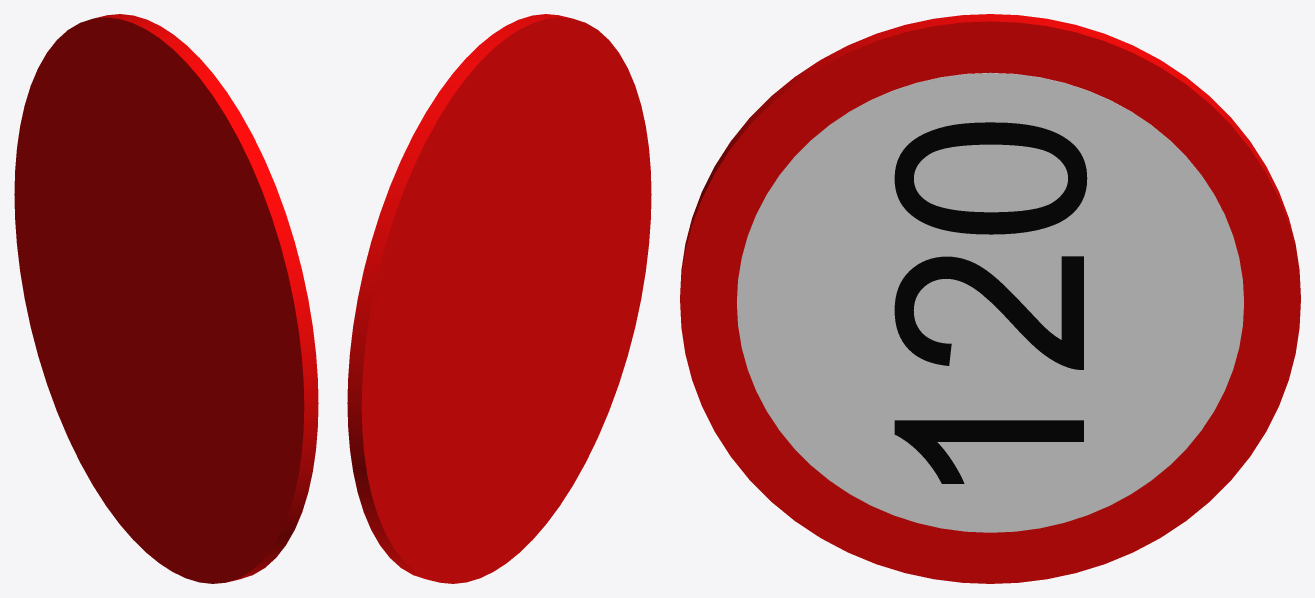
3 renders of one model, left to right at view 1: azimuth 30°, elevation 25°; view 2: azimuth 150°, elevation 25°; view 3: azimuth 270°, elevation 25°, orthographic. The views are drawn at different scales.
Visible parts, largest first — view 1: 限速120; view 2: 限速120; view 3: 限速120.
Part boxes in pixels (<box>): 限速120: <box>14,14,318,583</box>; 限速120: <box>347,14,651,583</box>; 限速120: <box>680,14,1300,583</box>.
Bounding box in the file's own units: 0.0246 × 0.7737 × 0.7737.
